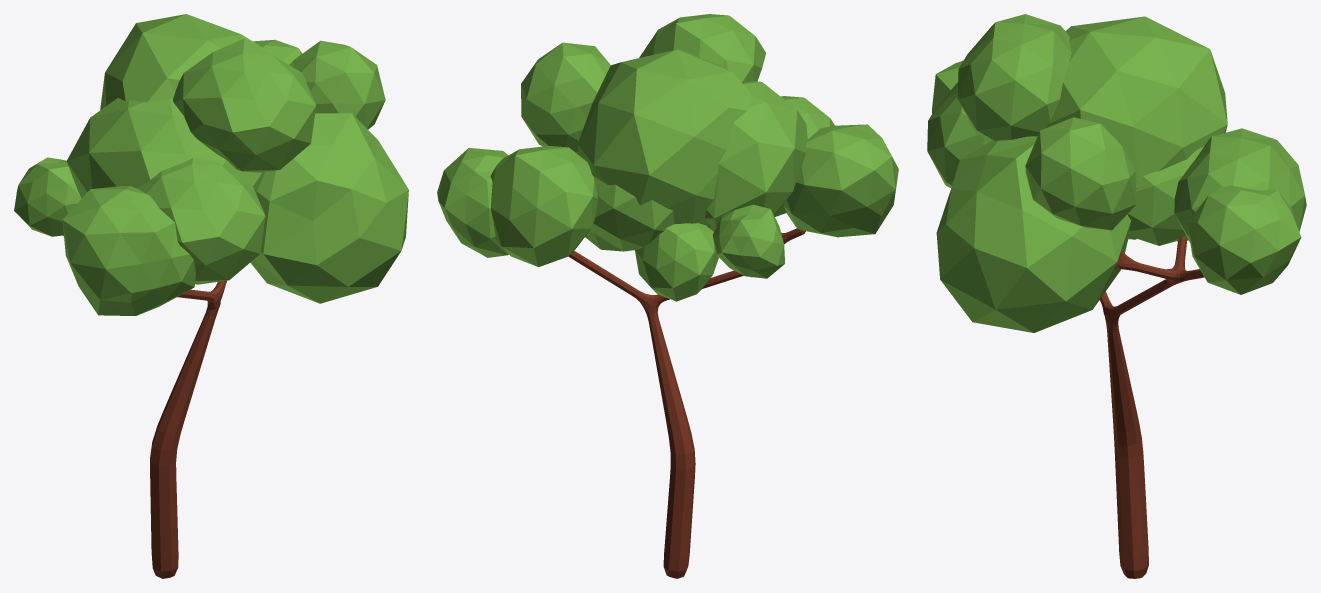
Rendered from tree.glb.
The picture shows the model from 3 angles, left to right: view 1: azimuth 30°, elevation 25°; view 2: azimuth 150°, elevation 25°; view 3: azimuth 270°, elevation 25°; orthographic projection. The views are drawn at different scales.
Visible parts, largest first — view 1: Icosphere.010, Icosphere.008, Icosphere.005, Icosphere.004, Icosphere.006, Icosphere.016, Cube, Icosphere.003, Icosphere.009, Icosphere.001; view 2: Icosphere.016, Icosphere.002, Icosphere.005, Icosphere.006, Cube, Icosphere.003, Icosphere.001, Icosphere.008, Icosphere.007, Icosphere.009, Icosphere.000, Icosphere.004; view 3: Icosphere.010, Icosphere.016, Icosphere.008, Icosphere.003, Icosphere.001, Cube, Icosphere.002, Icosphere.000, Icosphere.004, Icosphere.005.
Part boxes in pixels (x1,y1,x2,y2): Icosphere.010: [250, 113, 408, 303]; Icosphere.008: [173, 38, 316, 172]; Icosphere.005: [62, 186, 195, 315]; Icosphere.004: [137, 157, 265, 284]; Icosphere.006: [66, 98, 264, 198]; Icosphere.016: [100, 14, 289, 109]; Cube: [63, 235, 226, 578]; Icosphere.003: [289, 40, 385, 129]; Icosphere.009: [14, 157, 81, 236]; Icosphere.001: [253, 39, 302, 64]; Icosphere.016: [577, 49, 751, 227]; Icosphere.002: [490, 146, 597, 267]; Icosphere.005: [783, 124, 898, 237]; Icosphere.006: [704, 81, 807, 231]; Cube: [568, 228, 805, 578]; Icosphere.003: [521, 42, 610, 153]; Icosphere.001: [437, 148, 508, 257]; Icosphere.008: [639, 14, 766, 83]; Icosphere.007: [635, 223, 718, 301]; Icosphere.009: [712, 204, 784, 278]; Icosphere.000: [578, 154, 674, 251]; Icosphere.004: [774, 96, 834, 216]; Icosphere.010: [936, 136, 1131, 332]; Icosphere.016: [1046, 16, 1227, 239]; Icosphere.008: [957, 14, 1071, 141]; Icosphere.003: [1025, 117, 1136, 230]; Icosphere.001: [1187, 185, 1301, 294]; Cube: [1100, 237, 1204, 578]; Icosphere.002: [1174, 128, 1306, 242]; Icosphere.000: [1127, 146, 1203, 245]; Icosphere.004: [927, 82, 990, 187]; Icosphere.005: [932, 61, 962, 113].
Bounding box in the file's own units: 6.1 × 8.9 × 5.39.
Materials: 13 (13 with a texture image).
